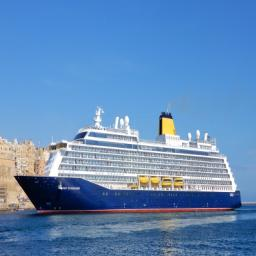cruises: (14, 107, 246, 218)
